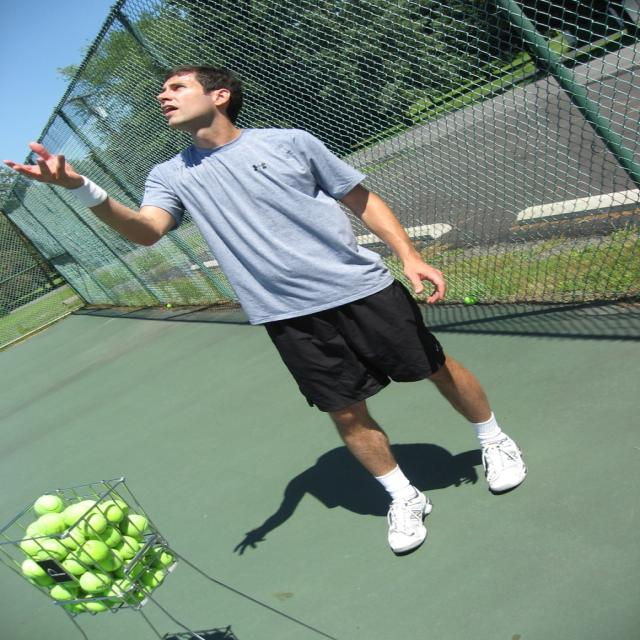Tennis ball: (21, 498, 180, 618), (20, 504, 176, 616), (34, 493, 62, 512), (36, 497, 61, 512)
